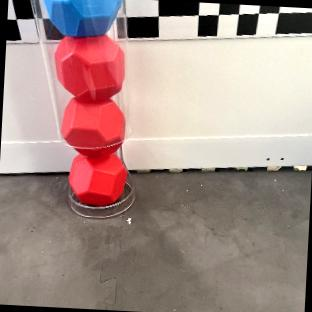Loader: (34, 0, 135, 217)
V5_BLUE: (44, 0, 121, 35)
V5_RED: (54, 33, 124, 102), (60, 94, 124, 149), (68, 153, 125, 205)
